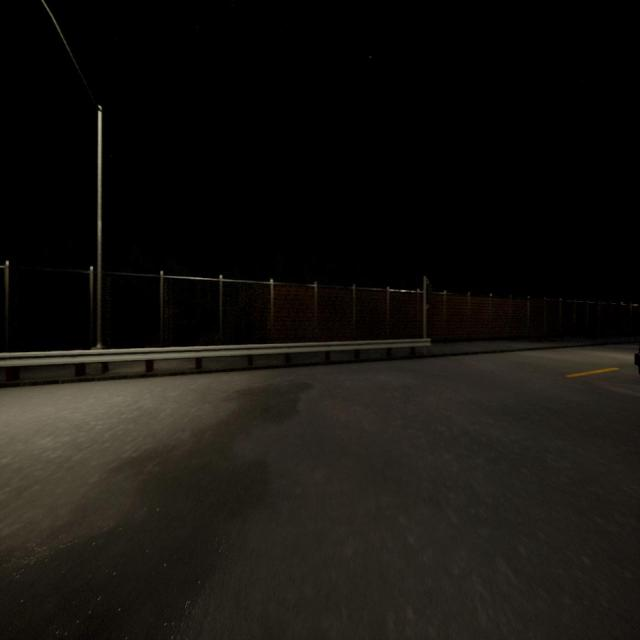traffic_light: (426, 283, 432, 304)
